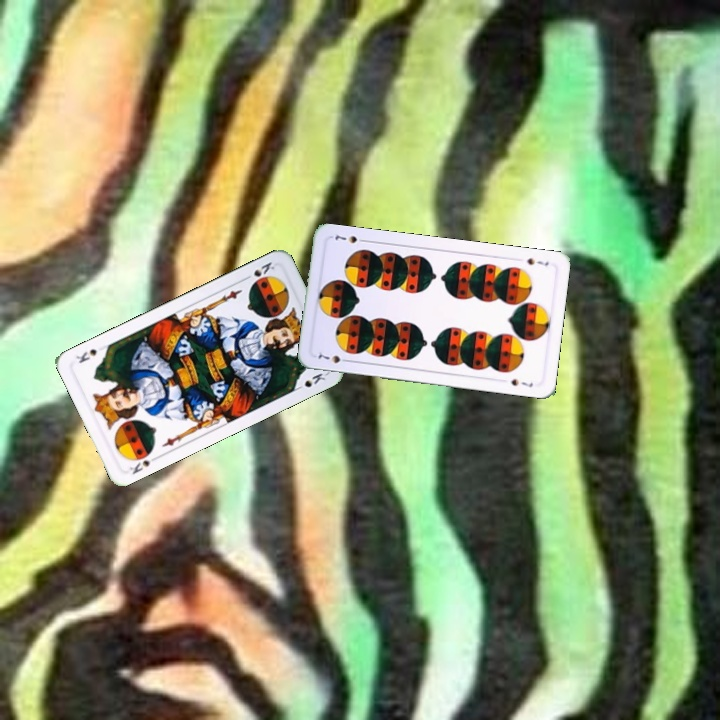S7: (312, 348, 352, 366), (523, 254, 551, 269)
SK: (239, 258, 277, 283), (126, 452, 161, 477)
